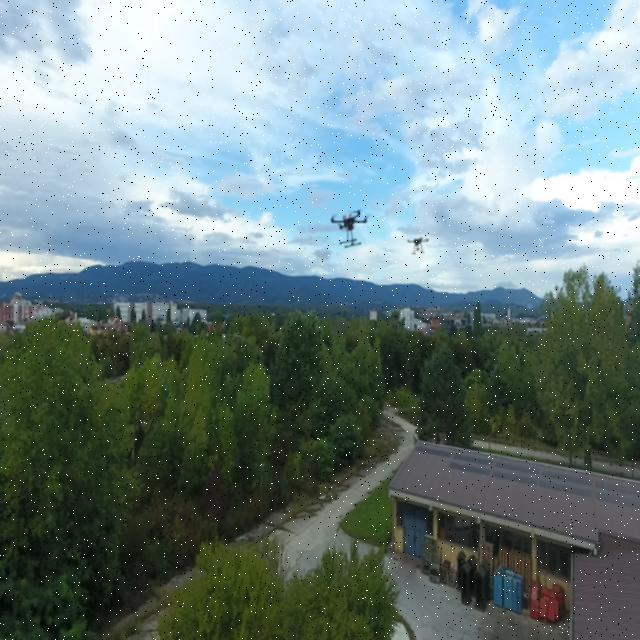UAV: (327, 202, 373, 249), (397, 229, 438, 256)
